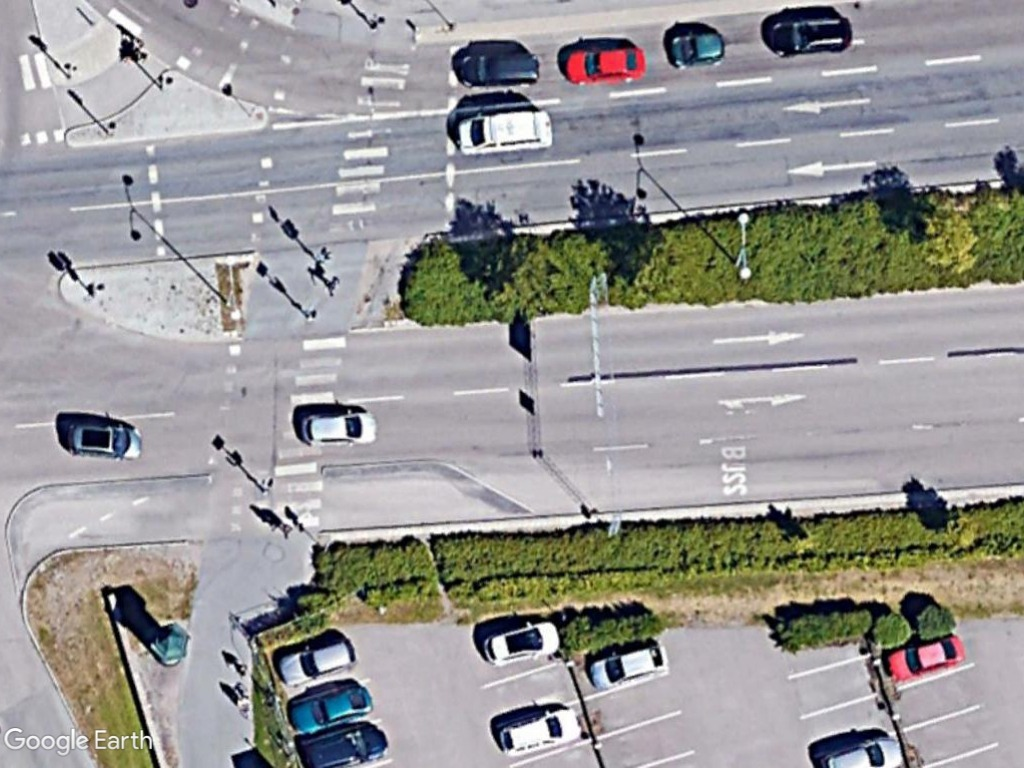car: (493, 699, 588, 758), (876, 630, 972, 686), (286, 681, 377, 737), (276, 635, 360, 693), (294, 719, 393, 768), (479, 615, 564, 671), (762, 12, 855, 59), (587, 642, 671, 694), (560, 41, 648, 89), (453, 46, 542, 90), (61, 418, 147, 463), (294, 406, 380, 449), (663, 26, 729, 69)
van: (453, 104, 557, 161)
